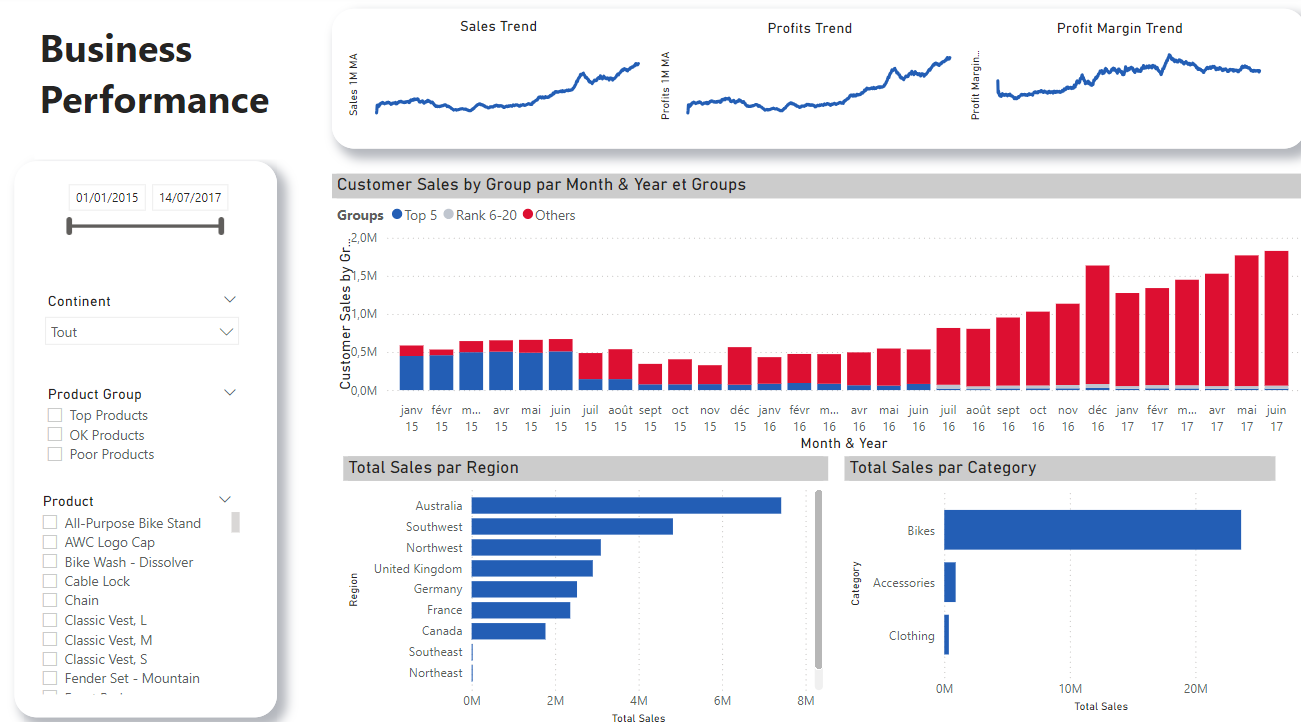

This screenshot's page, from the dashboard's own definition file:
{"tool":"powerbi","page":{"name":"Business Performance","canvas":[1280,720],"ordinal":0},"visuals":[{"type":"basicShape","box":[327.7,13.5,952.6,137],"z":0,"group":"g2"},{"type":"basicShape","box":[17.5,162.7,256.5,544.3],"z":0,"group":"g1"},{"type":"lineChart","title":"Sales Trend","fields":{"Y":["Moving Averages.Sales 1M MA"],"Category":["Dates.Date"]},"box":[338.9,21.5,303.9,106.8],"z":1000,"group":"g2"},{"type":"group","id":"g1","title":"Groupe 1","box":[17.5,162.7,256.5,544.3],"z":1000},{"type":"group","id":"g2","title":"Groupe 2","box":[327.7,13.5,952.6,137],"z":2000},{"type":"lineChart","title":"Profits Trend","fields":{"Category":["Dates.Date"],"Y":["Moving Averages.Profits 1M MA"]},"box":[642.7,23.8,304.1,106.4],"z":2000,"group":"g2"},{"type":"lineChart","title":"Profit Margin Trend","fields":{"Y":["Moving Averages.Profit Margin 1M MA"],"Category":["Dates.Date"]},"box":[946.8,23.3,303.9,105.5],"z":3000,"group":"g2"},{"type":"slicer","fields":{"Values":["Territories.Continent"]},"box":[36.3,286.5,210.2,86.3],"z":3000},{"type":"slicer","fields":{"Values":["Products.Product"]},"box":[31.3,481.7,210.2,207.7],"z":4000},{"type":"columnChart","fields":{"Category":["Dates.Month & Year"],"Y":["Ranking.Customer Sales by Group"],"Series":["Grouping.Groups"]},"box":[327.7,174.9,952.6,276.4],"z":5000},{"type":"clusteredBarChart","fields":{"Y":["Key Measures.Total Sales"],"Category":["Territories.Region"]},"box":[338.7,451.2,474.5,267.8],"z":6000},{"type":"slicer","fields":{"Values":["Products.Product Group"]},"box":[36.9,377.1,210.2,105.1],"z":7000,"group":"g1"},{"type":"clusteredBarChart","fields":{"Y":["Key Measures.Total Sales"],"Category":["Products.Category"]},"box":[829.1,451.2,421.9,255.6],"z":7000},{"type":"slicer","fields":{"Values":["Dates.Date"]},"box":[57.5,174.9,177.3,91.7],"z":8000},{"type":"textbox","box":[36.3,21.3,252.7,140.1],"z":9000}]}

Visuals, with their boxes in screenshot pixels (x1, y1, x2, y2), scaled from the page's 1280x720 canvas onto the 1301x722 screenshot:
basicShape: (333,14,1300,151)
basicShape: (18,163,278,709)
"Sales Trend" lineChart: (344,22,653,129)
"Groupe 1" group: (18,163,278,709)
"Groupe 2" group: (333,14,1300,151)
"Profits Trend" lineChart: (653,24,962,131)
"Profit Margin Trend" lineChart: (962,23,1271,129)
slicer - Territories.Continent: (37,287,251,374)
slicer - Products.Product: (32,483,245,691)
columnChart - Dates.Month & Year x Ranking.Customer Sales by Group: (333,175,1300,453)
clusteredBarChart - Key Measures.Total Sales x Territories.Region: (344,452,827,721)
slicer - Products.Product Group: (38,378,251,484)
clusteredBarChart - Key Measures.Total Sales x Products.Category: (843,452,1272,709)
slicer - Dates.Date: (58,175,239,267)
textbox: (37,21,294,162)
